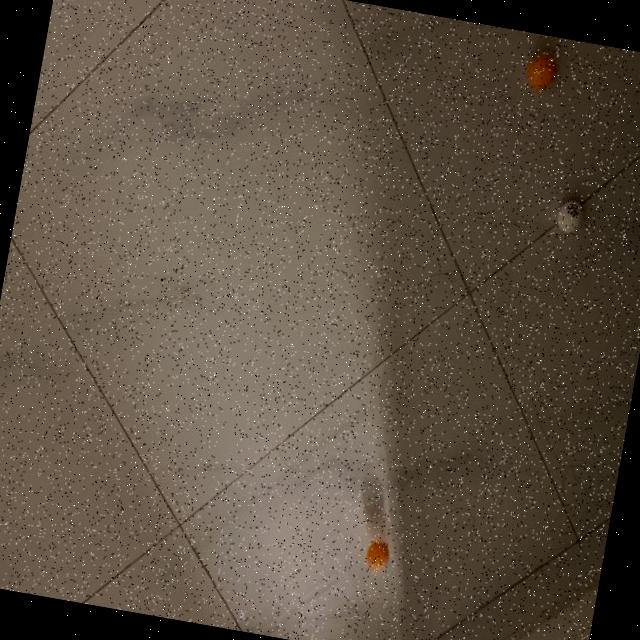ping-pong-ball: (522, 49, 556, 92), (552, 193, 584, 236), (362, 539, 389, 573)
